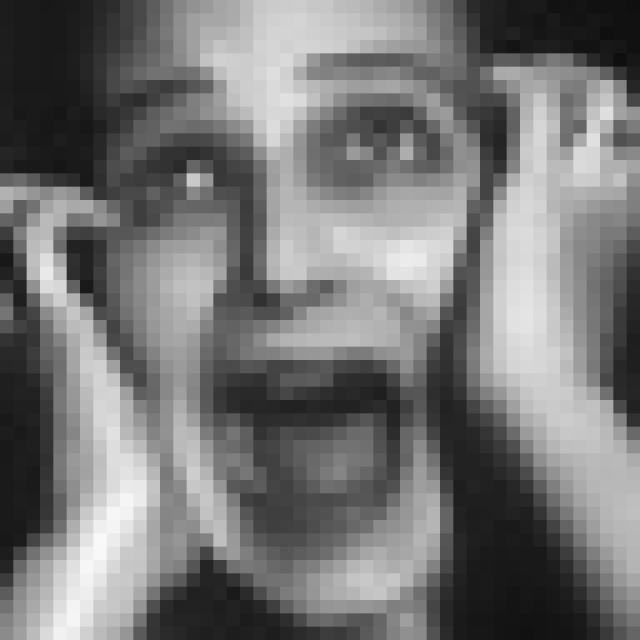fear: (92, 43, 501, 572)
